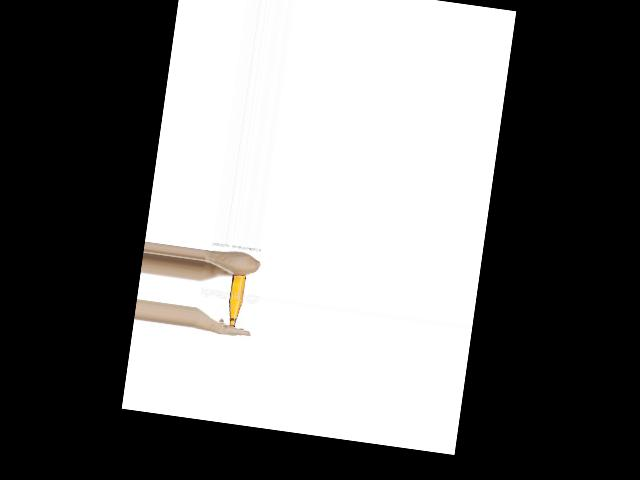beer: (224, 274, 246, 328)
